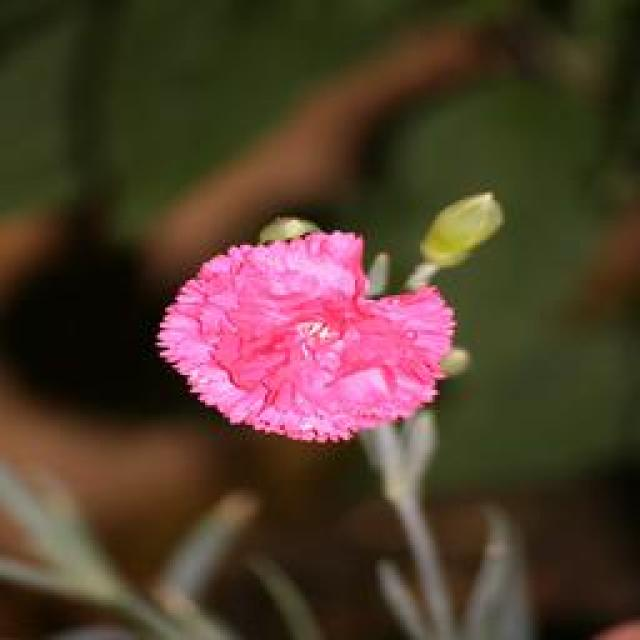carnation: (160, 210, 470, 460)
